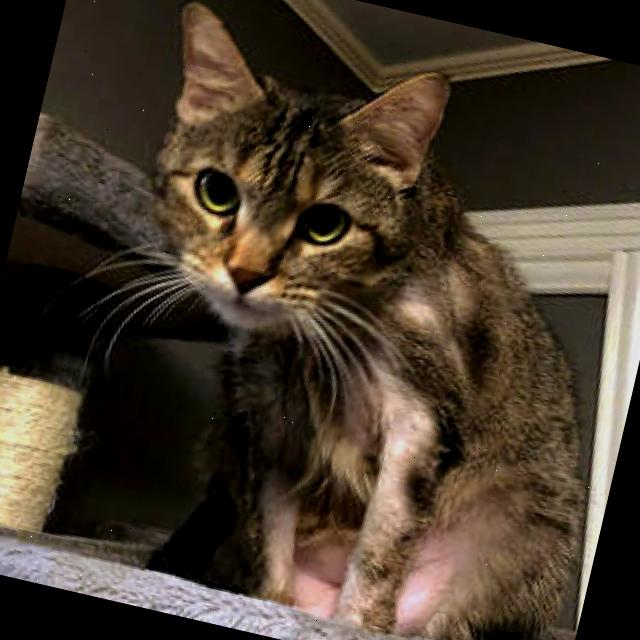cat-hairloss: (354, 366, 440, 446), (405, 524, 469, 618), (296, 538, 352, 612), (399, 292, 444, 324)
